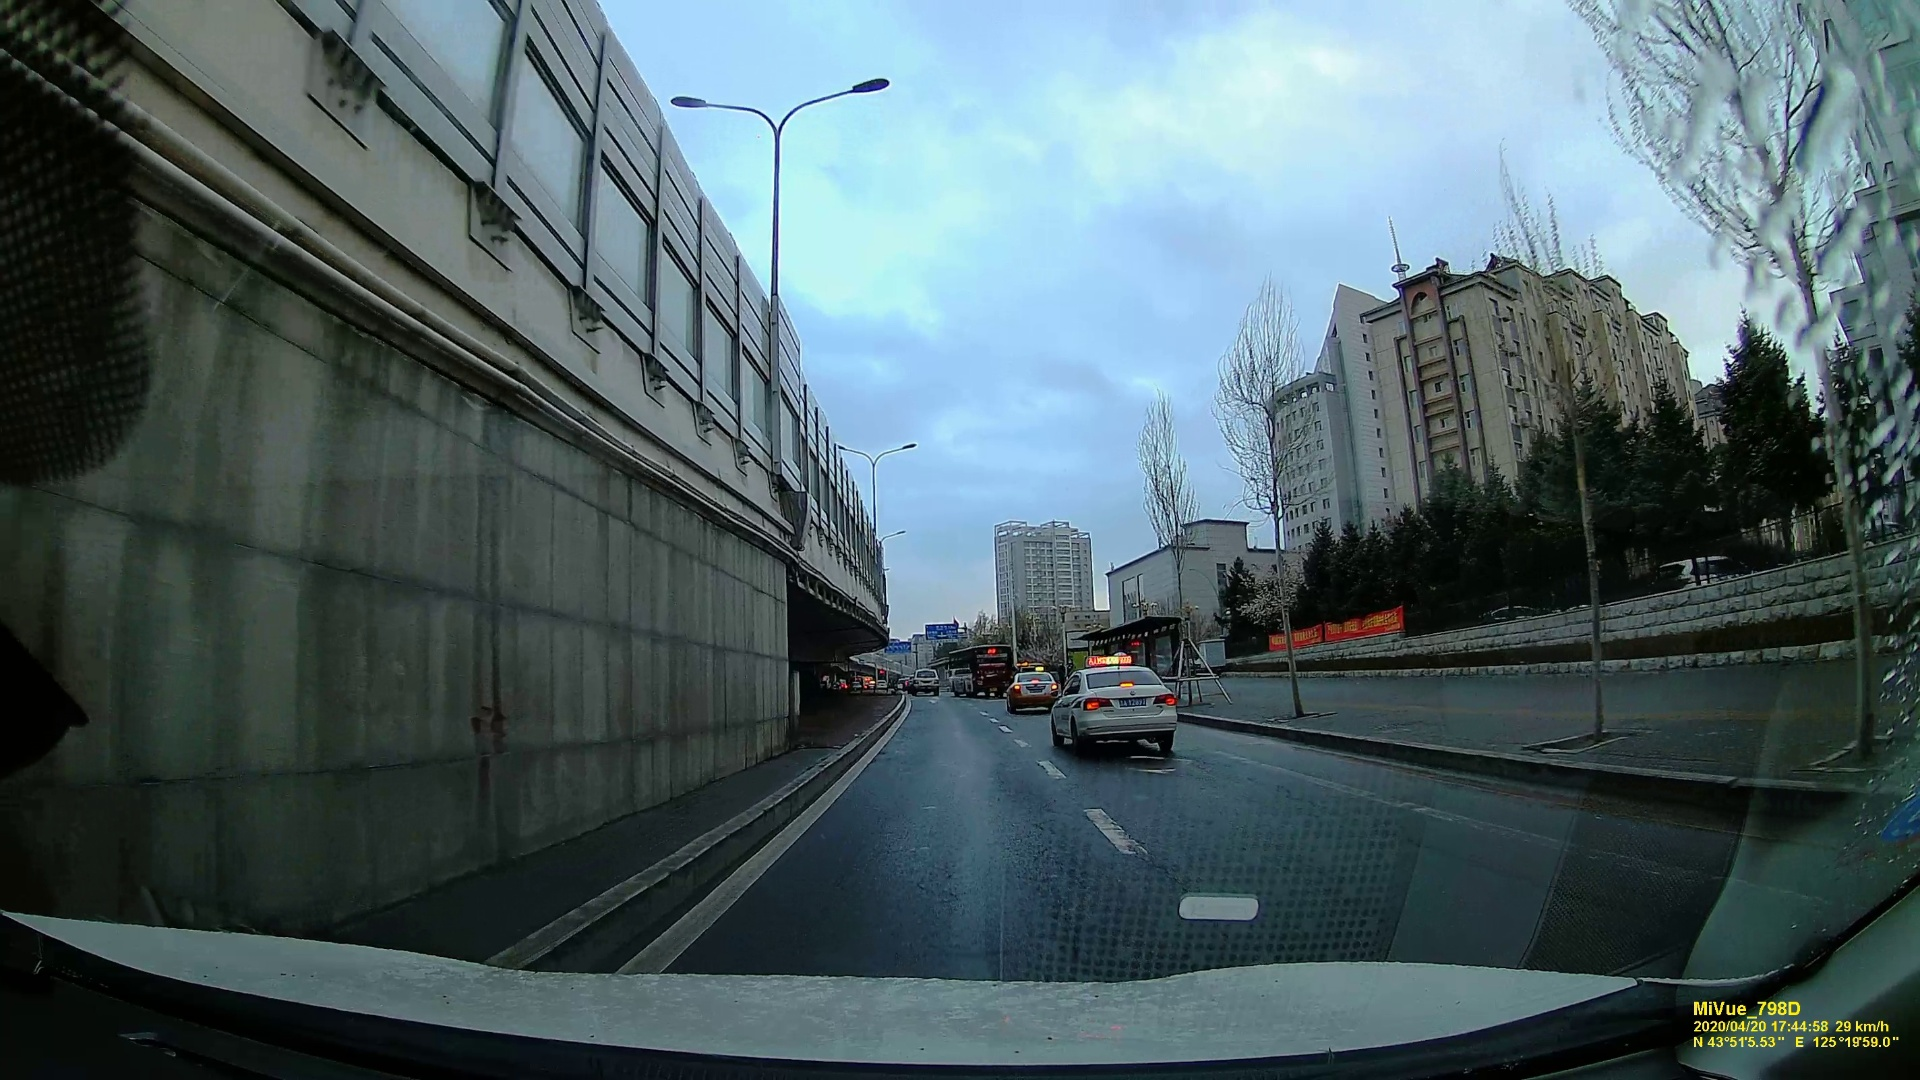bus: (951, 647, 1009, 696)
traffic_sign: (926, 622, 956, 638), (885, 642, 913, 653)
vehicle: (1050, 662, 1180, 754), (1007, 669, 1055, 712), (915, 669, 938, 694)
